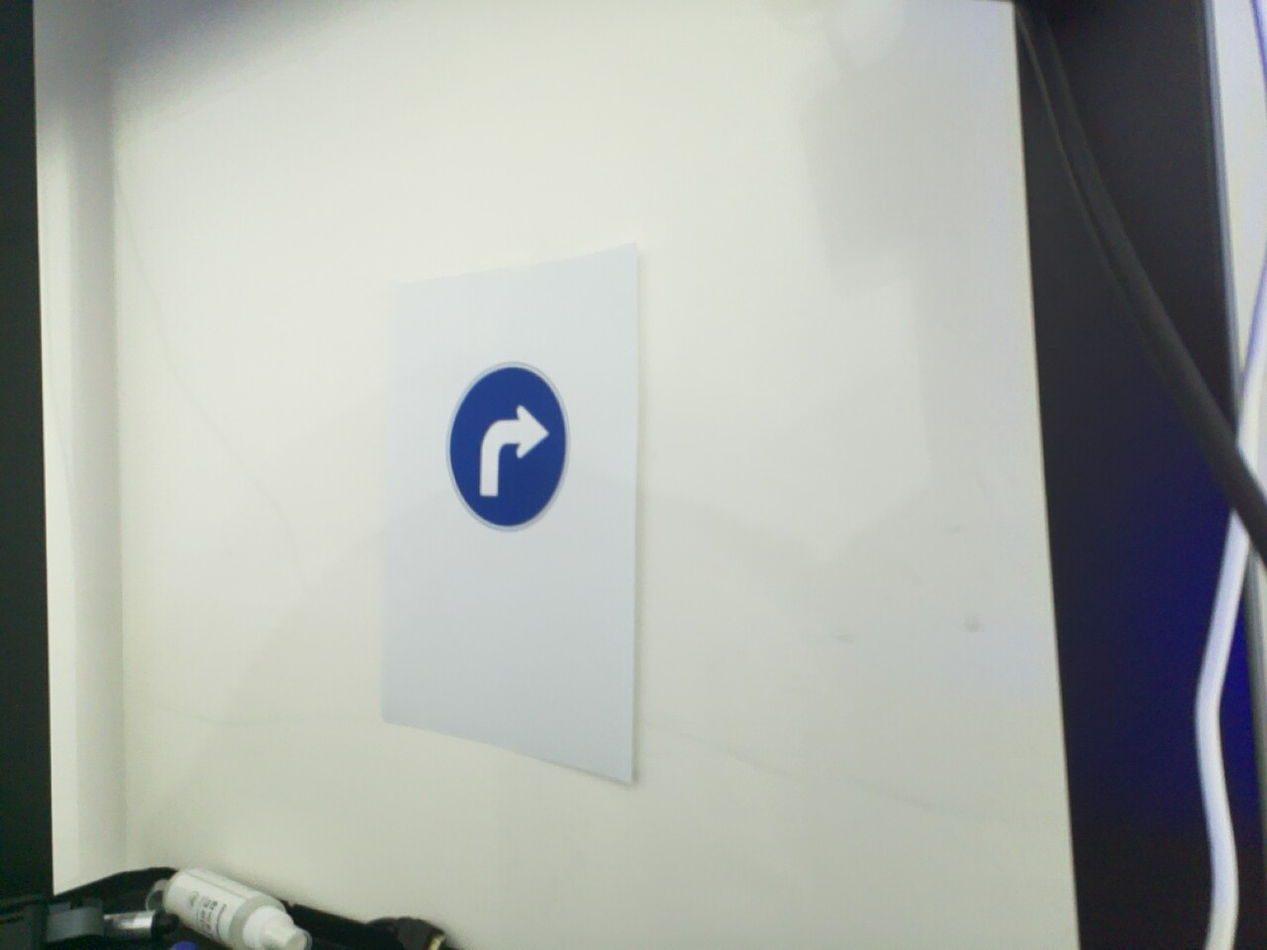right_turn: (443, 360, 572, 533)
